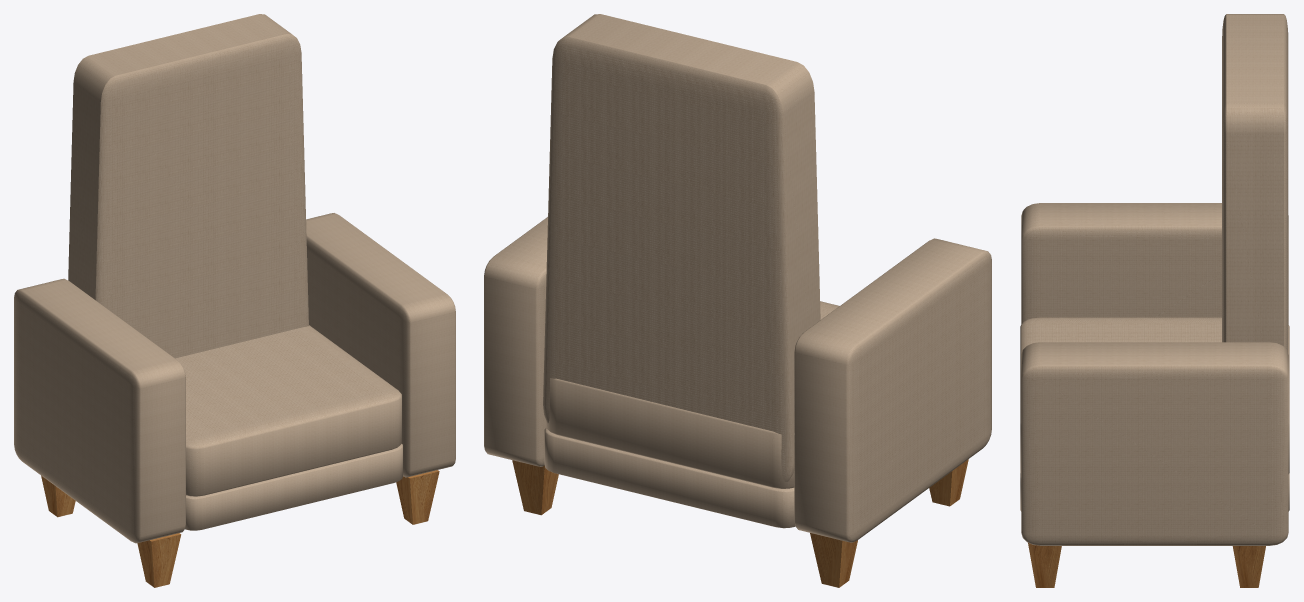
File: Sillon.fbx
The picture shows the model from 3 angles, left to right: view 1: azimuth 30°, elevation 25°; view 2: azimuth 150°, elevation 25°; view 3: azimuth 270°, elevation 25°; orthographic projection. The views are drawn at different scales.
Visible parts, largest first — view 1: Cube.001, Cube, Cube.007, Cube.008, Cube.004, Cube.006; view 2: Cube.001, Cube, Cube.007, Cube.008, Cube.006, Cube.004; view 3: Cube, Cube.001, Cube.007, Cube.004, Cube.006.
Boxes of the visible parts, left/top/right/bottom form: Cube.001: left=68, top=14, right=308, bottom=358; Cube: left=14, top=213, right=455, bottom=543; Cube.007: left=175, top=325, right=401, bottom=496; Cube.008: left=185, top=444, right=402, bottom=530; Cube.004: left=137, top=470, right=439, bottom=587; Cube.006: left=41, top=475, right=75, bottom=517; Cube.001: left=543, top=14, right=820, bottom=481; Cube: left=484, top=217, right=991, bottom=542; Cube.007: left=546, top=301, right=839, bottom=488; Cube.008: left=544, top=428, right=795, bottom=528; Cube.006: left=512, top=460, right=857, bottom=587; Cube.004: left=929, top=459, right=968, bottom=506; Cube: left=1021, top=203, right=1288, bottom=545; Cube.001: left=1222, top=14, right=1288, bottom=353; Cube.007: left=1020, top=317, right=1289, bottom=473; Cube.004: left=1028, top=543, right=1061, bottom=587; Cube.006: left=1232, top=546, right=1265, bottom=587.
Bounding box in the file's own units: 79.9 × 103 × 54.94.
Materials: 2 (2 with a texture image).
